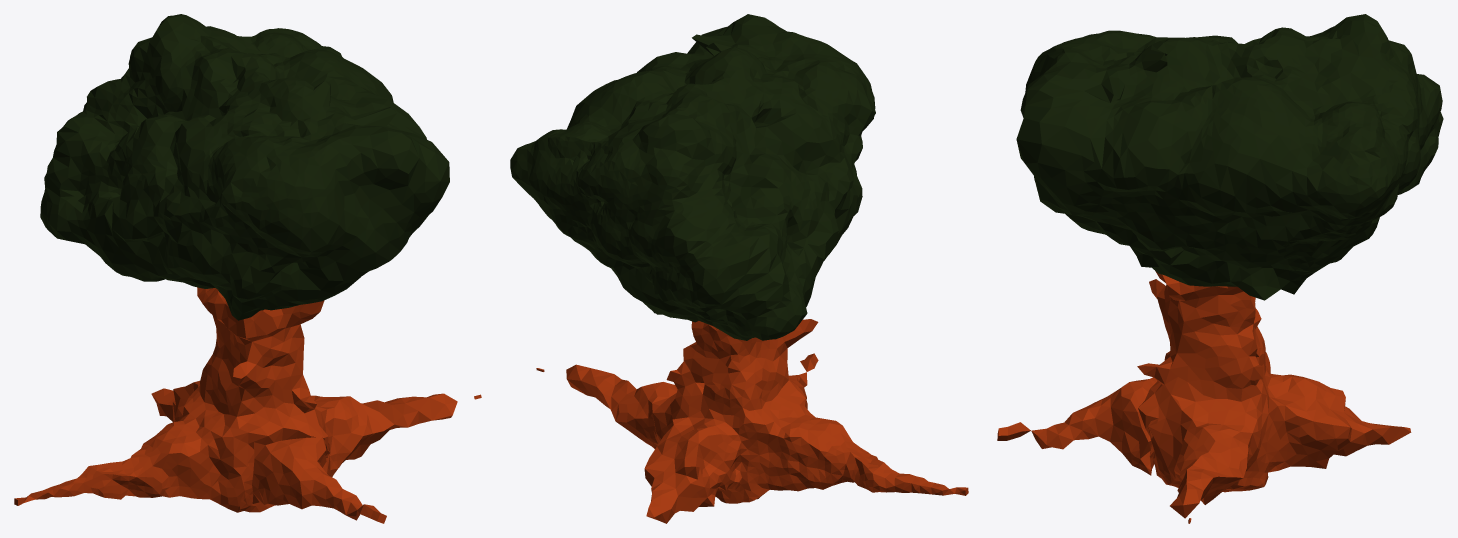
File: tree.obj
The picture shows the model from 3 angles, left to right: view 1: azimuth 30°, elevation 25°; view 2: azimuth 150°, elevation 25°; view 3: azimuth 270°, elevation 25°; orthographic projection. The views are drawn at different scales.
Visible parts, largest first — view 1: Feuillage_Cube, Tronc_Cube.001; view 2: Feuillage_Cube, Tronc_Cube.001; view 3: Feuillage_Cube, Tronc_Cube.001.
Part boxes in pixels (<box>): Feuillage_Cube: <box>40,14,449,320</box>; Tronc_Cube.001: <box>14,287,481,523</box>; Feuillage_Cube: <box>510,14,875,340</box>; Tronc_Cube.001: <box>536,319,968,523</box>; Feuillage_Cube: <box>1016,14,1443,300</box>; Tronc_Cube.001: <box>997,271,1411,523</box>.
Size of the model in its own units: 10.94 by 9.9 by 8.91.
